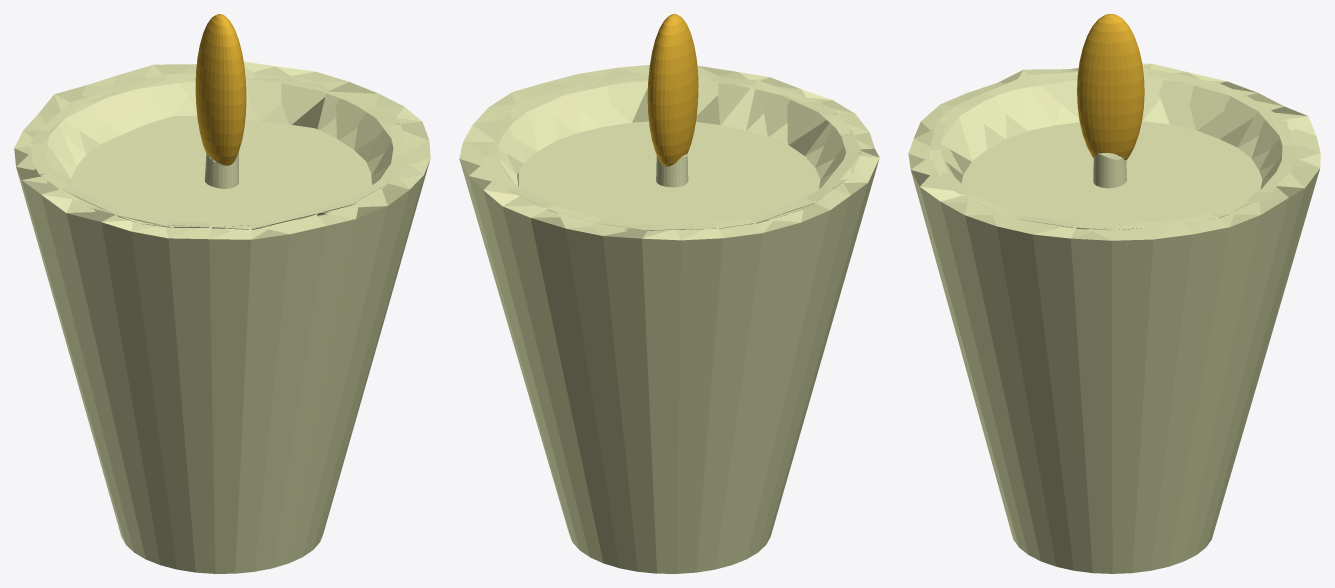
File: VELADORA  VASO (1).fbx
The picture shows the model from 3 angles, left to right: view 1: azimuth 30°, elevation 25°; view 2: azimuth 150°, elevation 25°; view 3: azimuth 270°, elevation 25°; orthographic projection.
Visible parts, largest first — view 1: Cilindro, Esfera; view 2: Cilindro, Esfera; view 3: Cilindro, Esfera.
Boxes of the visible parts, x1,y1,x2,y2 form: Cilindro: [14, 61, 430, 573]; Esfera: [195, 14, 246, 165]; Cilindro: [459, 65, 879, 573]; Esfera: [647, 14, 698, 166]; Cilindro: [908, 63, 1320, 573]; Esfera: [1077, 14, 1144, 160].
Bounding box in the file's own units: 247 × 336 × 244.
